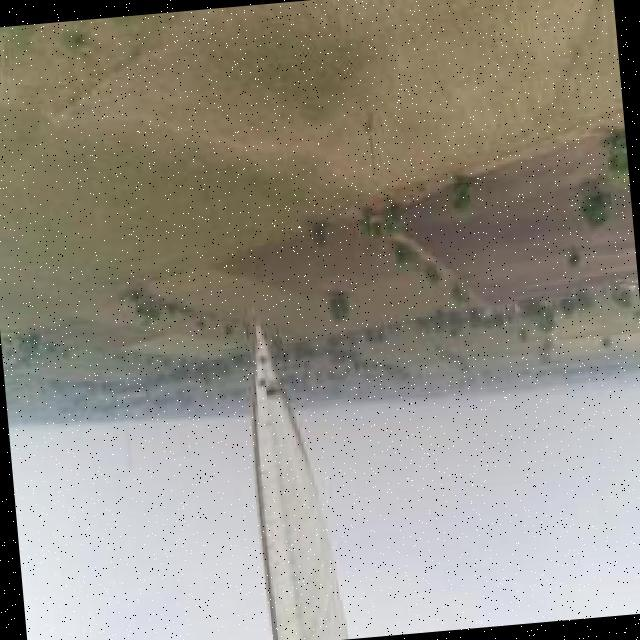Dirt: (245, 325, 350, 639)
Pin Hole: (255, 348, 281, 399)
